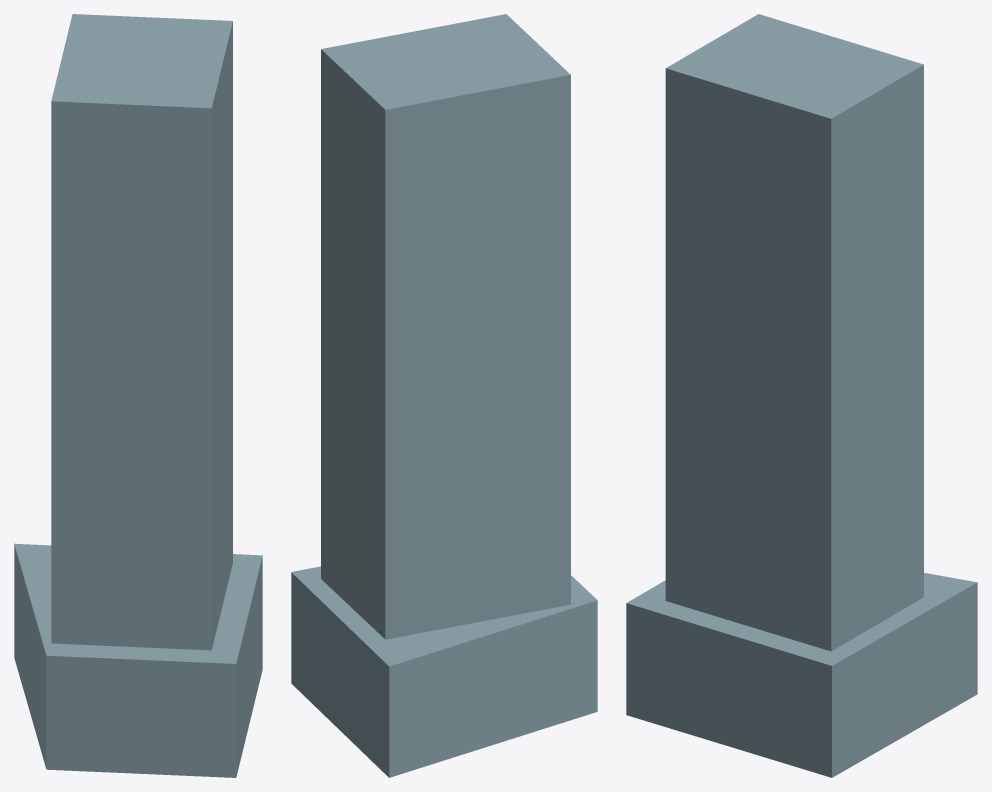
File: mcity-m5-developer-proxy.glb
The picture shows the model from 3 angles, left to right: view 1: azimuth 30°, elevation 25°; view 2: azimuth 150°, elevation 25°; view 3: azimuth 270°, elevation 25°; orthographic projection. The views are drawn at different scales.
Parts seen in each view (by area): view 1: m5-TowerTop, m5-Podium, m5-Amenities; view 2: m5-TowerTop, m5-Podium, m5-Amenities; view 3: m5-TowerTop, m5-Podium, m5-Amenities.
Part boxes in pixels (x1=…): m5-TowerTop: x1=51, y1=14, x2=232, y2=630; m5-Podium: x1=14, y1=543, x2=262, y2=777; m5-Amenities: x1=51, y1=544, x2=232, y2=650; m5-TowerTop: x1=321, y1=14, x2=570, y2=620; m5-Podium: x1=291, y1=566, x2=597, y2=777; m5-Amenities: x1=321, y1=560, x2=570, y2=639; m5-TowerTop: x1=665, y1=14, x2=923, y2=632; m5-Podium: x1=626, y1=572, x2=977, y2=777; m5-Amenities: x1=665, y1=578, x2=923, y2=651.
Bounding box in the file's own units: 49.83 × 118 × 58.2.
